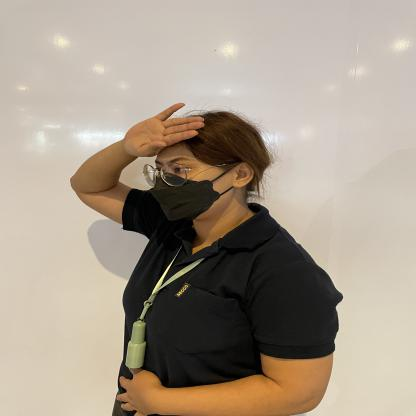Sick: (31, 95, 266, 201)
